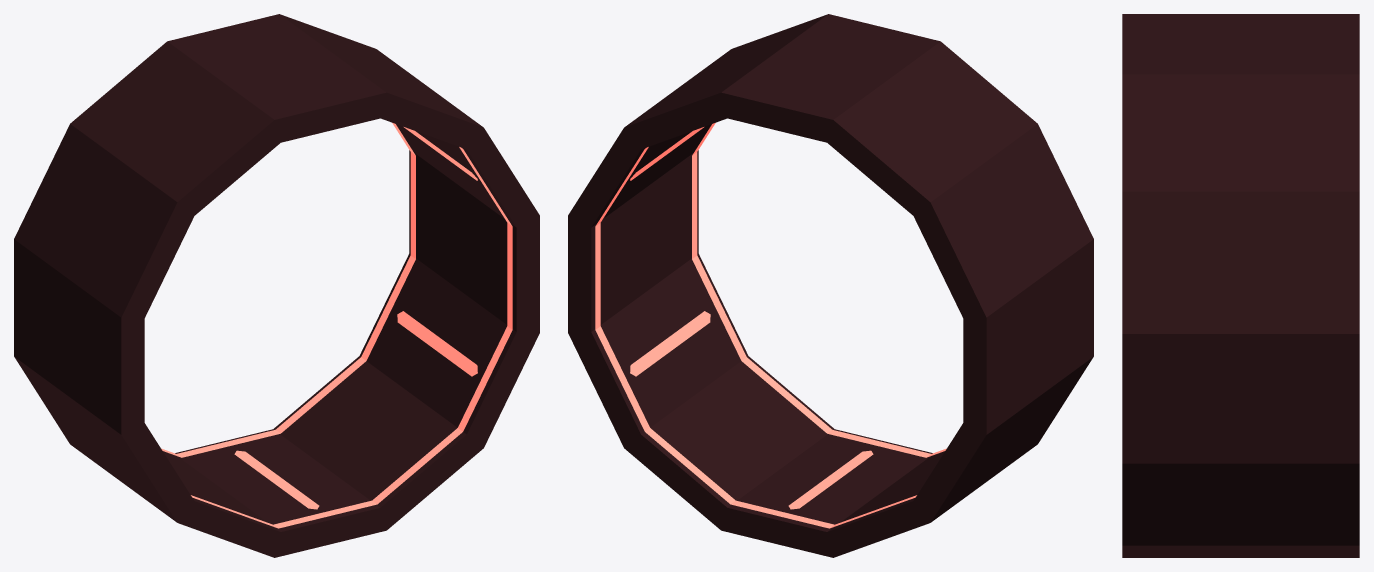
Rendered from tunnel_ring_nightmare.glb.
The picture shows the model from 3 angles, left to right: view 1: azimuth 30°, elevation 25°; view 2: azimuth 150°, elevation 25°; view 3: azimuth 270°, elevation 25°; orthographic projection. The views are drawn at different scales.
Parts seen in each view (by area): view 1: Mesh; view 2: Mesh; view 3: Mesh.
Part boxes in pixels (x1,y1,x2,y2): Mesh: (14, 14, 539, 557); Mesh: (568, 14, 1093, 557); Mesh: (1122, 14, 1359, 557).
Bounding box in the file's own units: 4.5 × 4.5 × 2.
